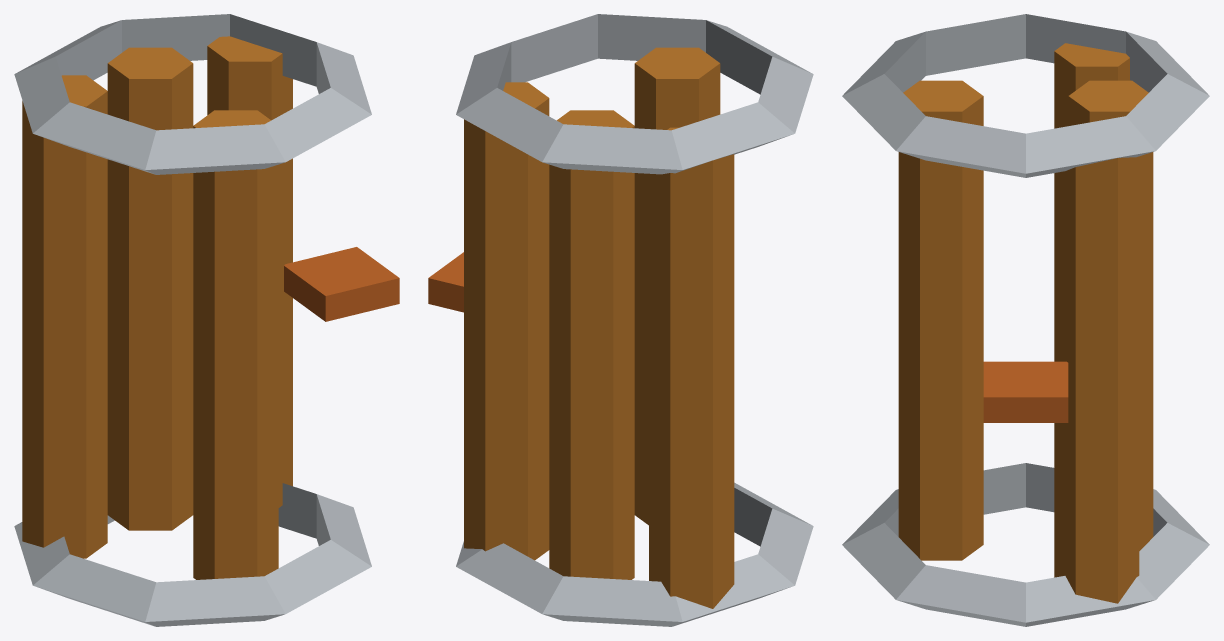
Rendered from mod-conductor.glb.
The picture shows the model from 3 angles, left to right: view 1: azimuth 30°, elevation 25°; view 2: azimuth 150°, elevation 25°; view 3: azimuth 270°, elevation 25°; orthographic projection.
Visible parts, largest first — view 1: m; view 2: m; view 3: m.
Boxes of the visible parts, x1,y1,x2,y2 form: m: (14,14,399,626); m: (428,14,813,626); m: (842,14,1209,626).
Size of the model in its own units: 0.05 by 0.0687 by 0.0464.
